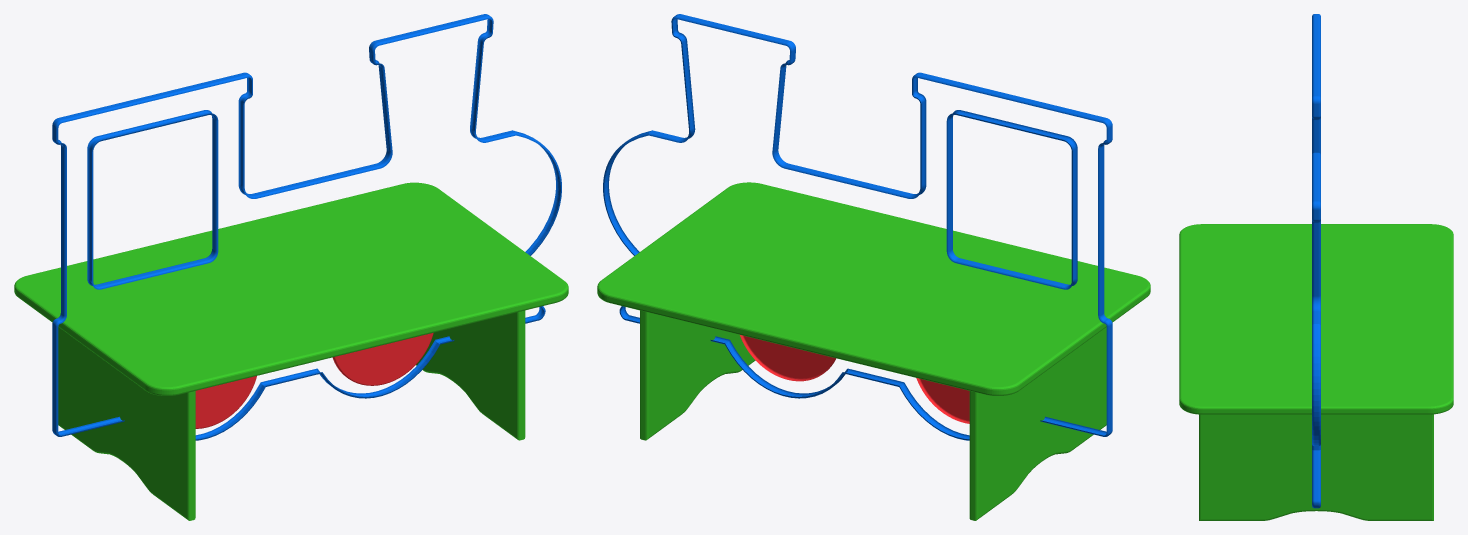
3 views of the same model, side by side, from view 1: azimuth 30°, elevation 25°; view 2: azimuth 150°, elevation 25°; view 3: azimuth 270°, elevation 25° (orthographic). The views are drawn at different scales.
Visible parts, largest first — view 1: D_50; view 2: D_50; view 3: D_50.
Boxes of the visible parts, <box> form: D_50: <box>14,14,568,520</box>; D_50: <box>597,14,1150,520</box>; D_50: <box>1179,14,1453,520</box>.
Bounding box in the file's own units: 120 × 84.03 × 63.
